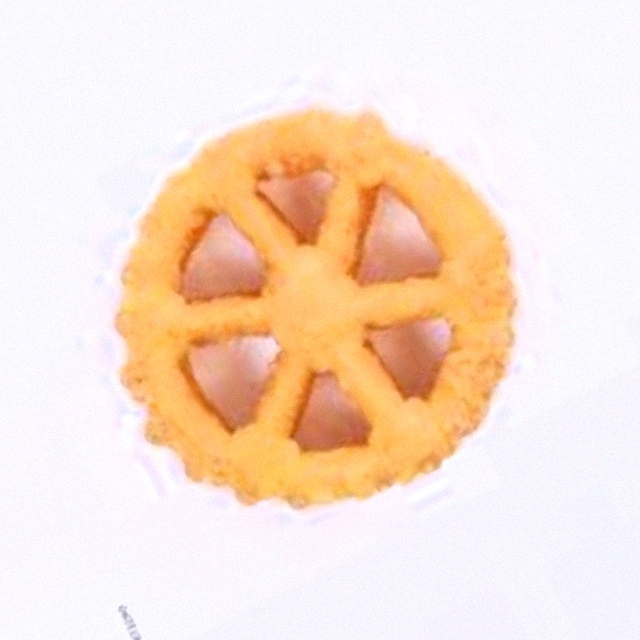Kokis: (92, 87, 548, 553)
